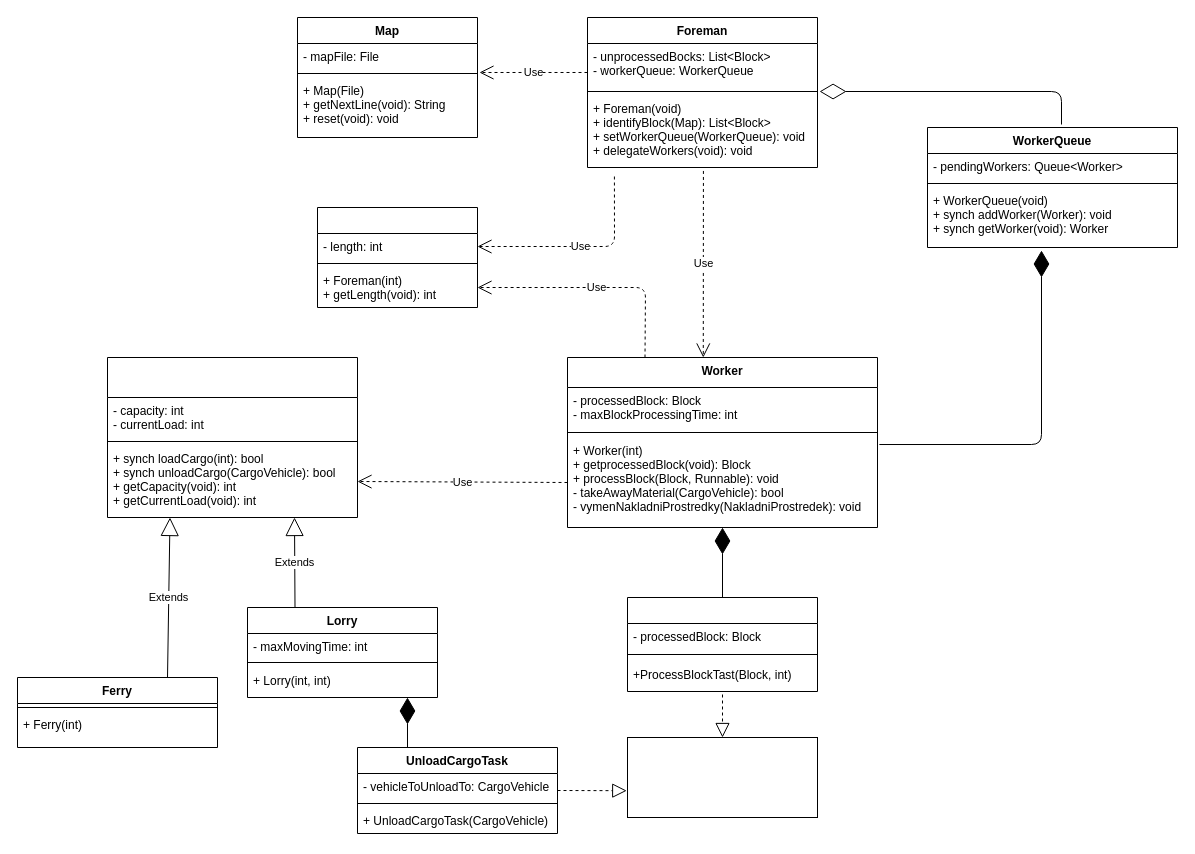
Image size: 1195x854. Some labels were removed from this diagram. Each missing label, with the box of its shape:
<<Interface>> Runnable + run(void): void: (626, 736, 818, 818)
Block: (316, 206, 478, 308)
ProcessBlockTask: (626, 596, 818, 692)
«Abstract» CargoVehicle: (106, 356, 358, 518)
